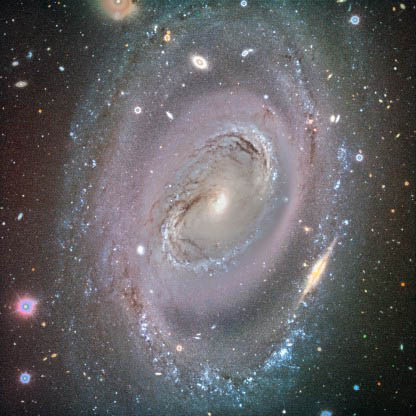Messier 96: (61, 1, 368, 415)
